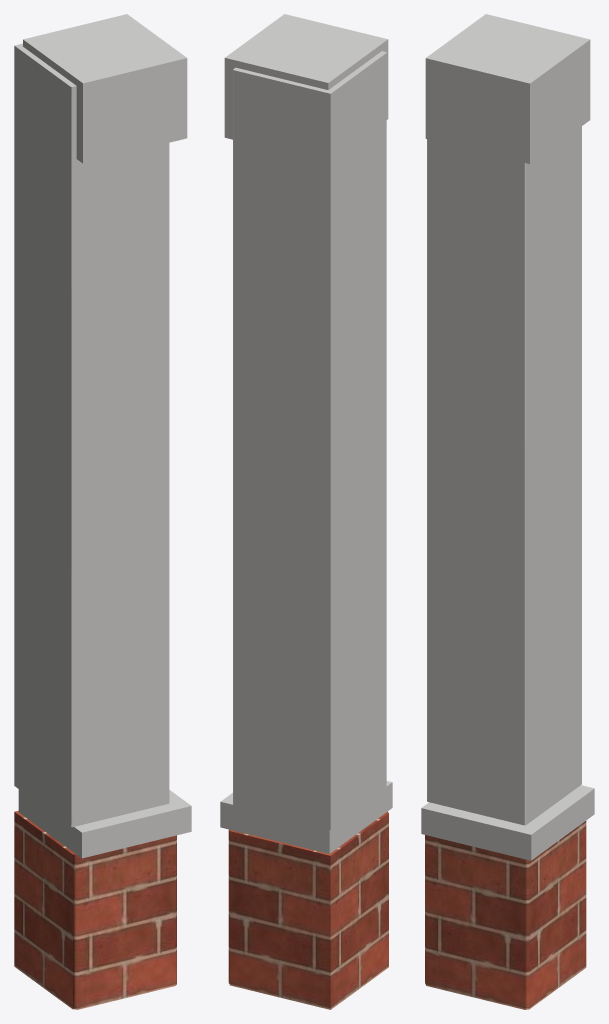
The model's file is vest_corner.glb.
3 renders of one model, left to right at view 1: azimuth 30°, elevation 25°; view 2: azimuth 150°, elevation 25°; view 3: azimuth 330°, elevation 25°, orthographic.
Parts seen in each view (by area): view 1: vest_corner_trim, vest_corner_brick; view 2: vest_corner_trim, vest_corner_brick; view 3: vest_corner_trim, vest_corner_brick.
Boxes of the visible parts, x1,y1,x2,y2 form: vest_corner_trim: (14, 14, 191, 858); vest_corner_brick: (14, 810, 176, 1009); vest_corner_trim: (220, 14, 392, 853); vest_corner_brick: (228, 811, 388, 1009); vest_corner_trim: (421, 14, 594, 860); vest_corner_brick: (425, 821, 586, 1009).
Bounding box in the file's own units: 0.41 × 3.23 × 0.41.
Materials: 2 (1 with a texture image).
